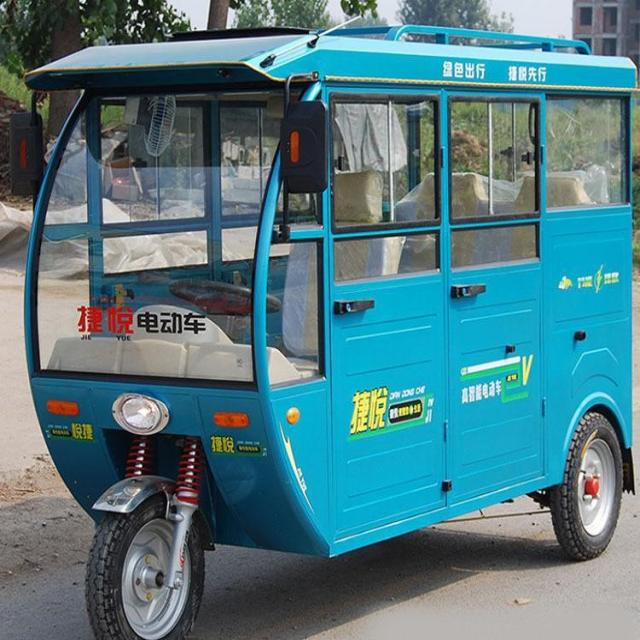tricycle: (18, 17, 636, 639)
